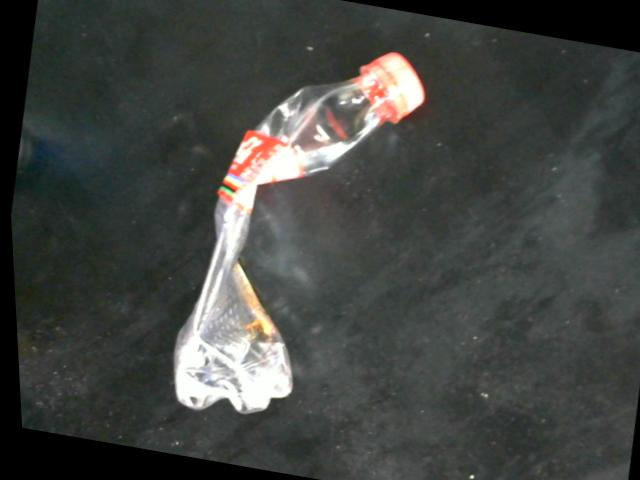bottle: (170, 44, 429, 416)
